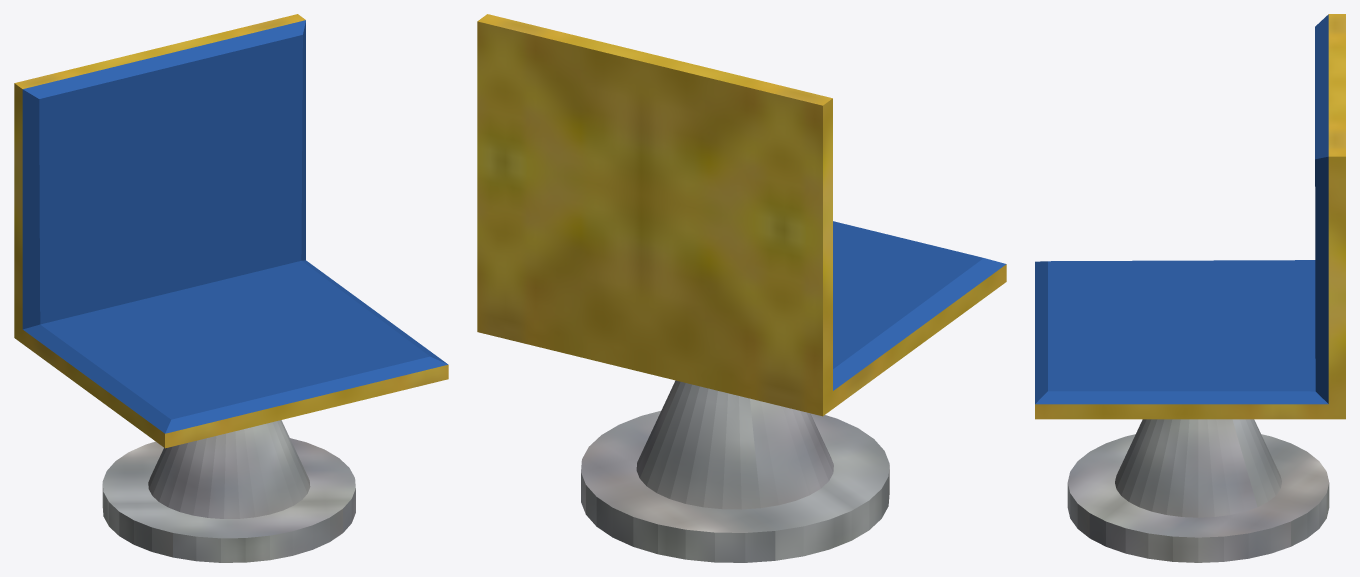
Rendered from cadeira3.fbx.
The picture shows the model from 3 angles, left to right: view 1: azimuth 30°, elevation 25°; view 2: azimuth 150°, elevation 25°; view 3: azimuth 270°, elevation 25°; orthographic projection. The views are drawn at different scales.
Visible parts, largest first — view 1: Plano.040; view 2: Plano.040; view 3: Plano.040.
Part boxes in pixels (x1,y1,x2,y2): Plano.040: (14, 14, 448, 562); Plano.040: (477, 14, 1006, 562); Plano.040: (1035, 14, 1345, 562).
Size of the model in its own units: 132 by 181 by 121.
1 material, 1 textured.
